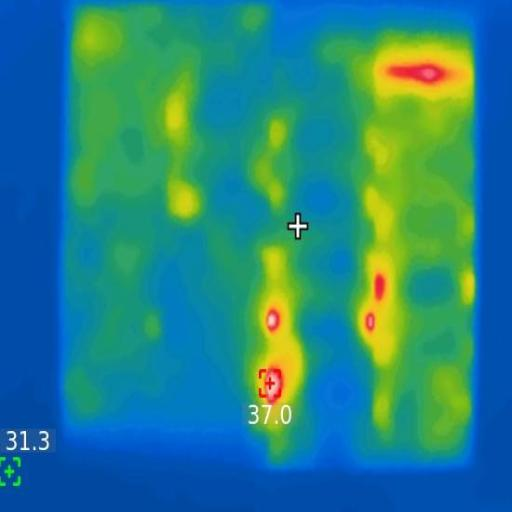hotspot: (386, 62, 454, 89), (259, 367, 286, 405), (263, 304, 284, 336), (371, 271, 388, 305), (366, 312, 379, 332)
